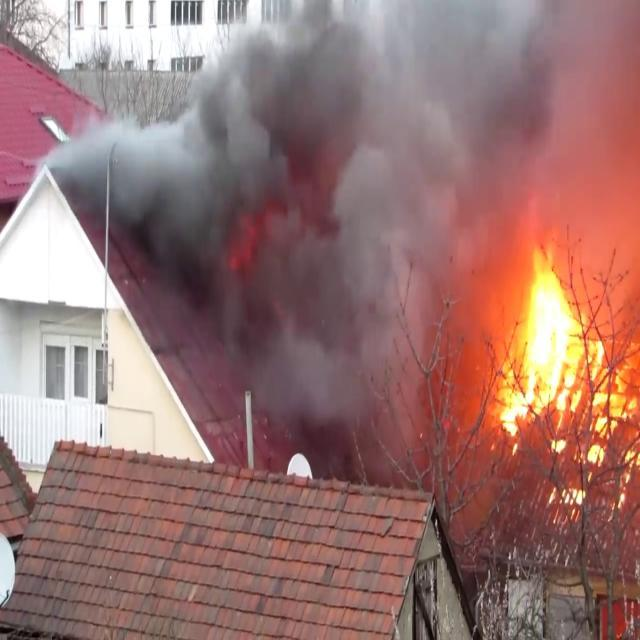Fire: (491, 243, 635, 505)
Smoke: (98, 0, 639, 402)
